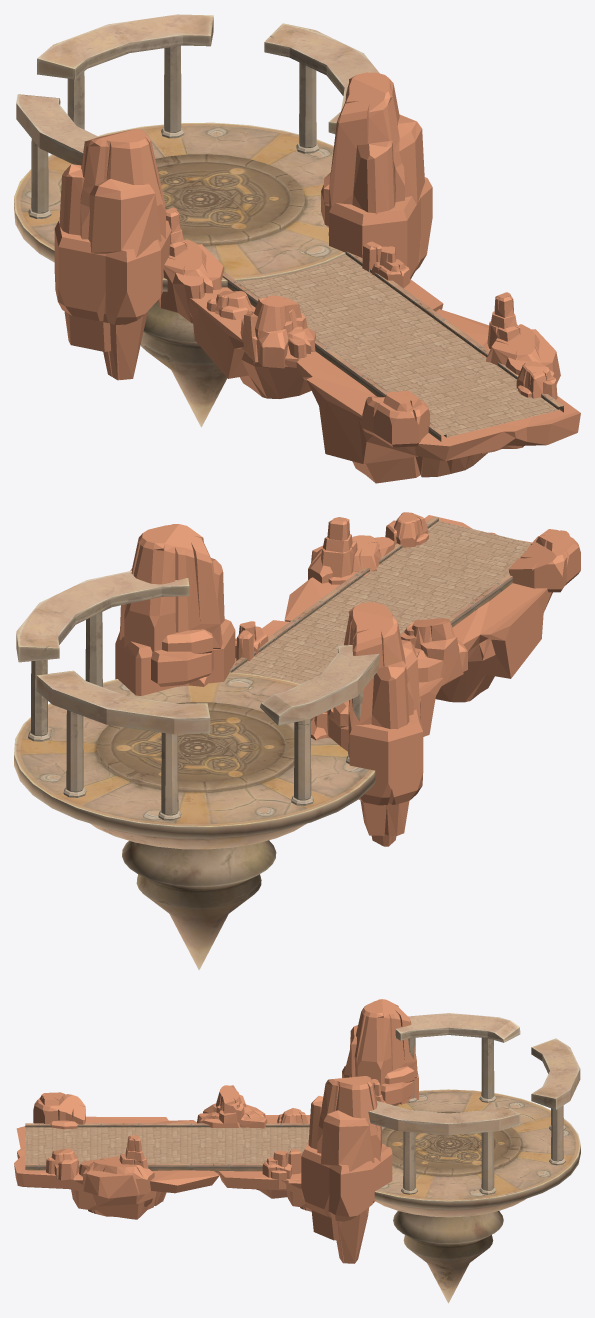
File: starting_block.fbx
3 views of the same model, one above another, from view 1: azimuth 30°, elevation 25°; view 2: azimuth 150°, elevation 25°; view 3: azimuth 270°, elevation 25° (orthographic). The views are drawn at different scales.
Visible parts, largest first — view 1: starting_block_standie, starting_block_Stage, starting_block_Road; view 2: starting_block_Stage, starting_block_standie, starting_block_Road; view 3: starting_block_standie, starting_block_Stage, starting_block_Road.
Part boxes in pixels (box(x1,y1,x2,y2)): starting_block_standie: box(54, 72, 580, 483); starting_block_Stage: box(14, 14, 379, 427); starting_block_Road: box(222, 251, 563, 441); starting_block_Stage: box(14, 570, 379, 970); starting_block_standie: box(115, 512, 580, 846); starting_block_Road: box(229, 516, 530, 684); starting_block_standie: box(14, 999, 418, 1263); starting_block_Stage: box(368, 1013, 580, 1303); starting_block_Road: box(25, 1123, 309, 1172).
Bounding box in the file's own units: 2739 × 2773 × 5481.
